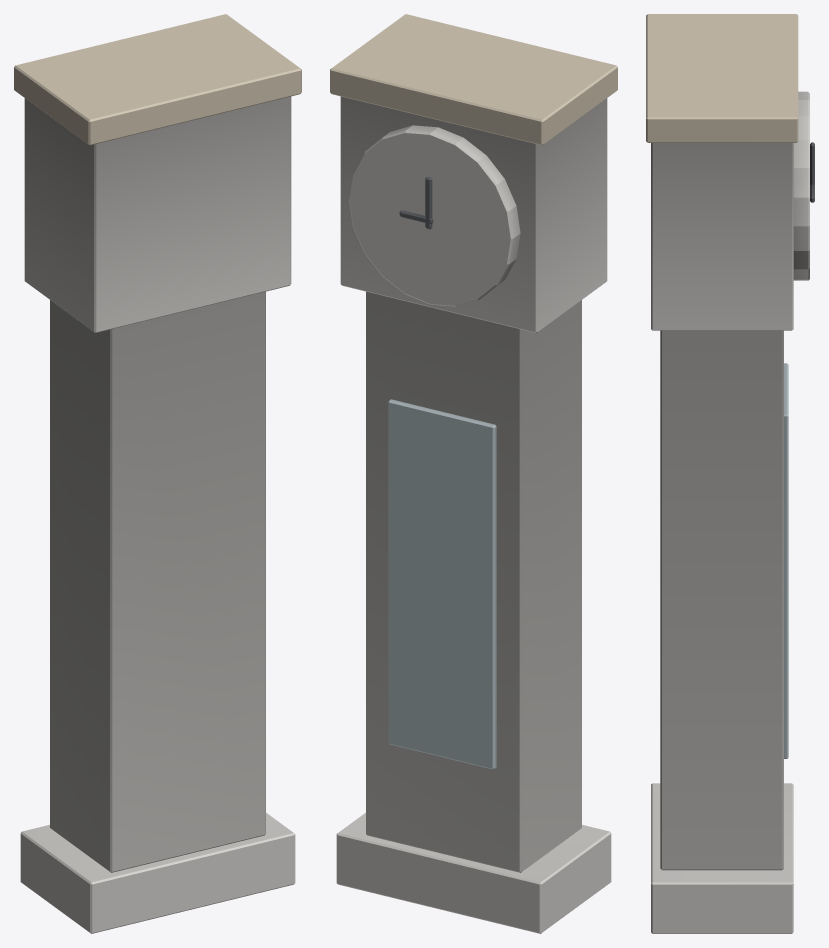
File: furn_tall_clock__white.glb
3 renders of one model, left to right at view 1: azimuth 30°, elevation 25°; view 2: azimuth 150°, elevation 25°; view 3: azimuth 270°, elevation 25°, orthographic.
Size of the model in its own units: 0.52 by 1.9 by 0.355.
